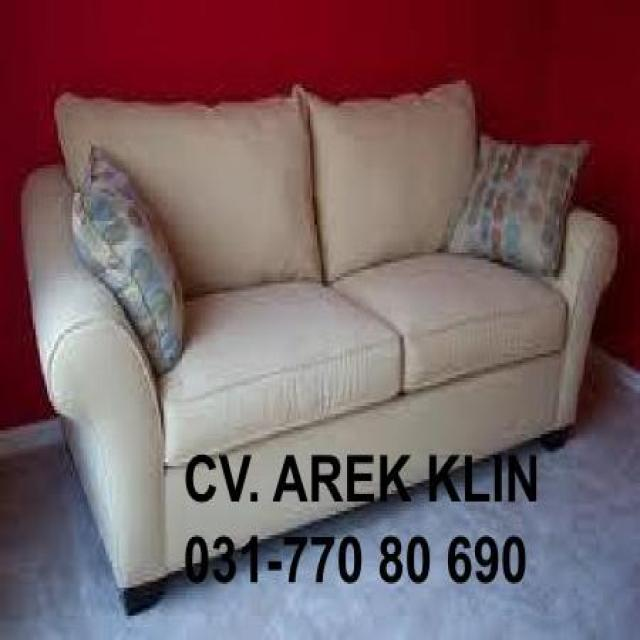sofa: (19, 77, 618, 610)
